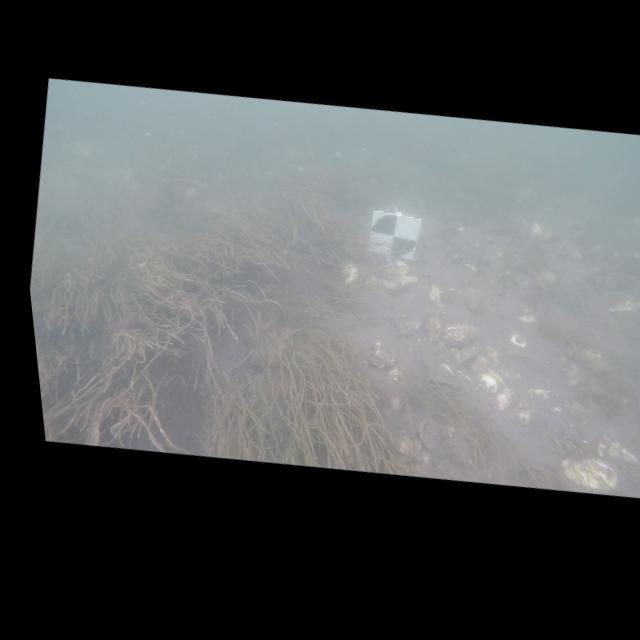Oyster-Closed: (561, 459, 618, 492), (439, 322, 482, 348), (422, 308, 443, 344), (370, 342, 396, 367), (396, 435, 412, 462), (398, 321, 420, 334)
Oyster-Indeterminate: (597, 436, 638, 463), (502, 334, 527, 358), (479, 369, 503, 393), (451, 346, 478, 366), (516, 401, 535, 425), (496, 388, 514, 411), (428, 280, 443, 304), (388, 260, 408, 275), (528, 388, 551, 400)
Oyster-Open: (379, 274, 418, 296), (417, 415, 436, 455), (441, 285, 454, 303)
